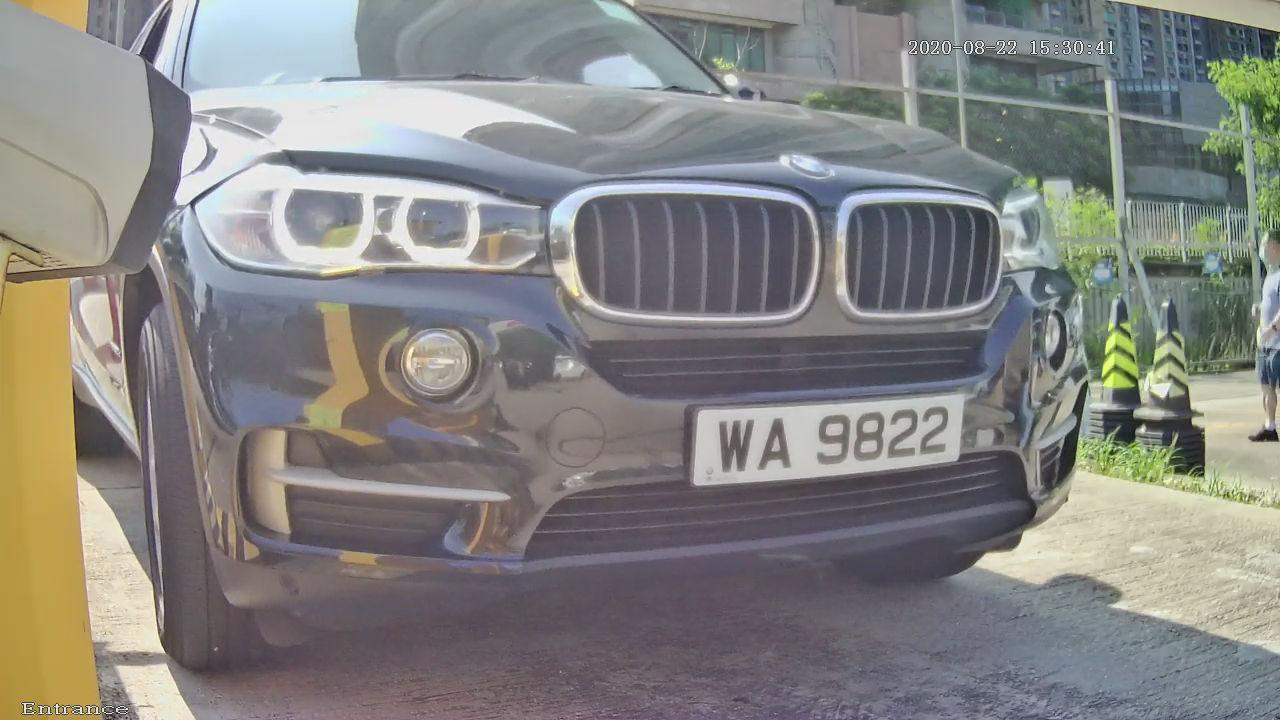License Plate: (675, 377, 972, 496)
